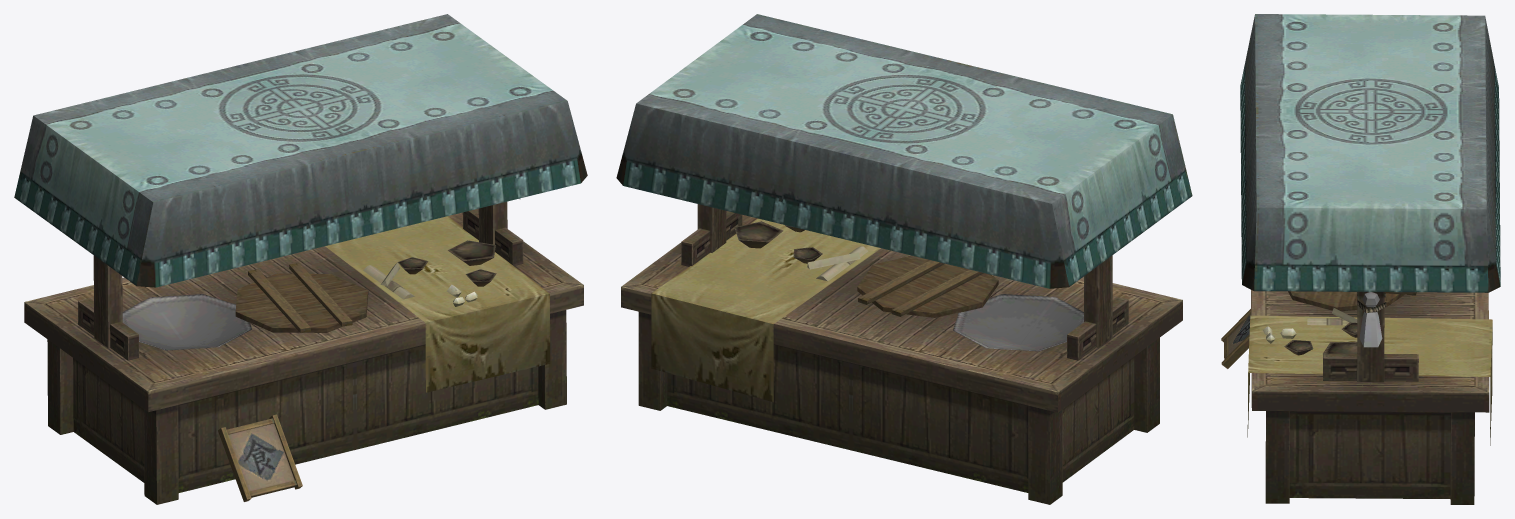
The model's file is C5_Build_5.FBX.
The picture shows the model from 3 angles, left to right: view 1: azimuth 30°, elevation 25°; view 2: azimuth 150°, elevation 25°; view 3: azimuth 270°, elevation 25°; orthographic projection. The views are drawn at different scales.
Parts seen in each view (by area): view 1: C5_Build_5; view 2: C5_Build_5; view 3: C5_Build_5.
Boxes of the visible parts, box(x1,y1,x2,y2) form: C5_Build_5: box(14, 14, 587, 504); C5_Build_5: box(616, 14, 1192, 504); C5_Build_5: box(1221, 14, 1500, 504).
Size of the model in its own units: 233 by 152 by 130.
